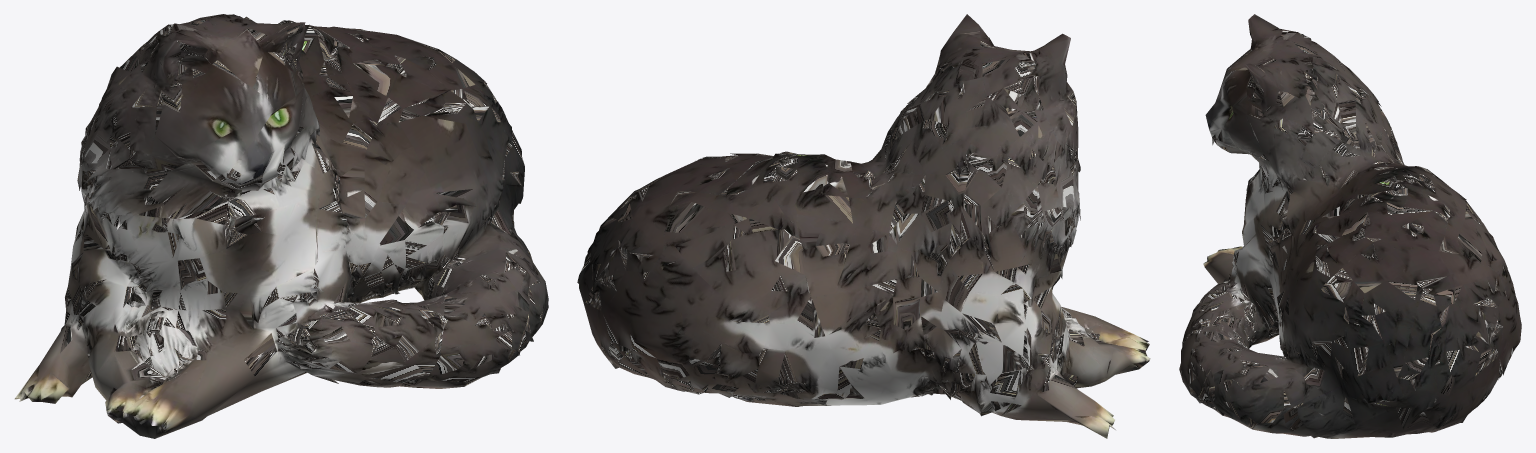
The model's file is cat.glb.
3 views of the same model, side by side, from view 1: azimuth 30°, elevation 25°; view 2: azimuth 150°, elevation 25°; view 3: azimuth 270°, elevation 25° (orthographic). The views are drawn at different scales.
Bounding box in the file's own units: 1.9 × 1.32 × 1.39.
Materials: 1 (1 with a texture image).
